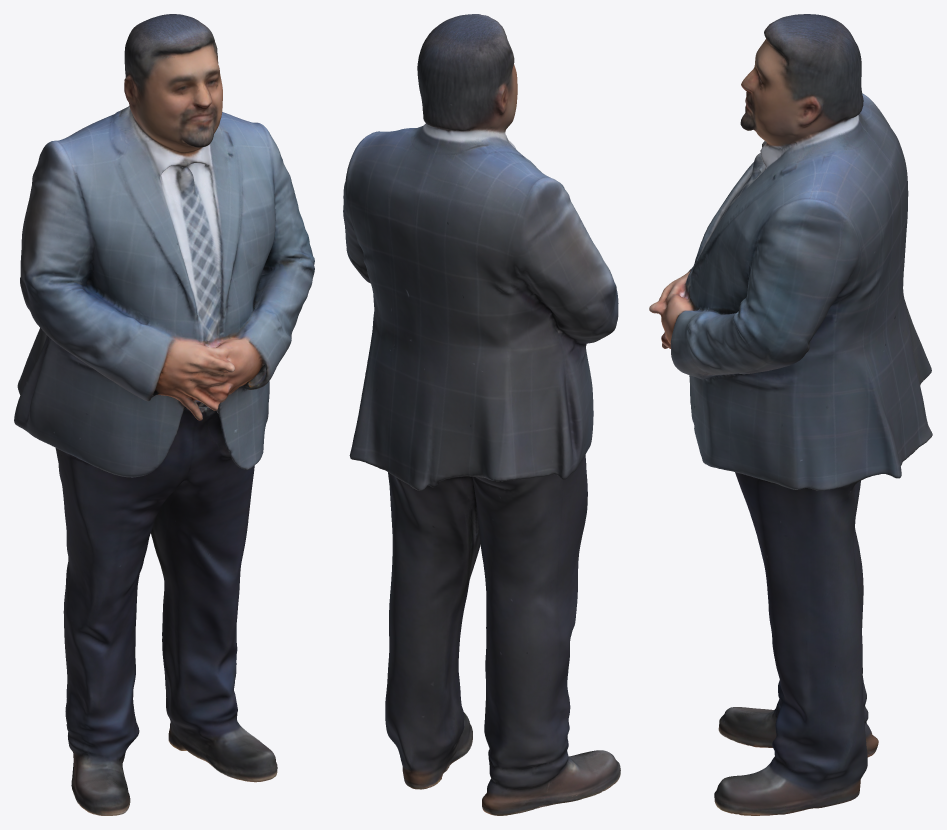
The model's file is figurita_pastor.glb.
The picture shows the model from 3 angles, left to right: view 1: azimuth 30°, elevation 25°; view 2: azimuth 150°, elevation 25°; view 3: azimuth 270°, elevation 25°; orthographic projection. The views are drawn at different scales.
Size of the model in its own units: 0.7584 by 2 by 0.6745.
1 material, 1 textured.
